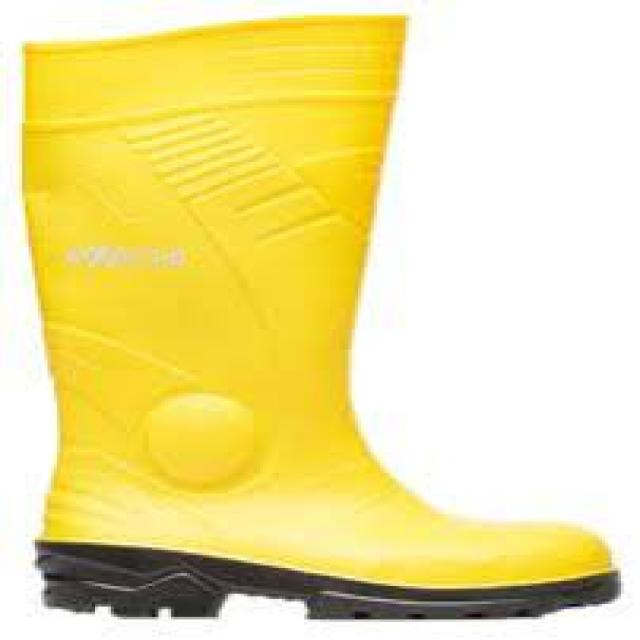shoes: (26, 16, 619, 618)
